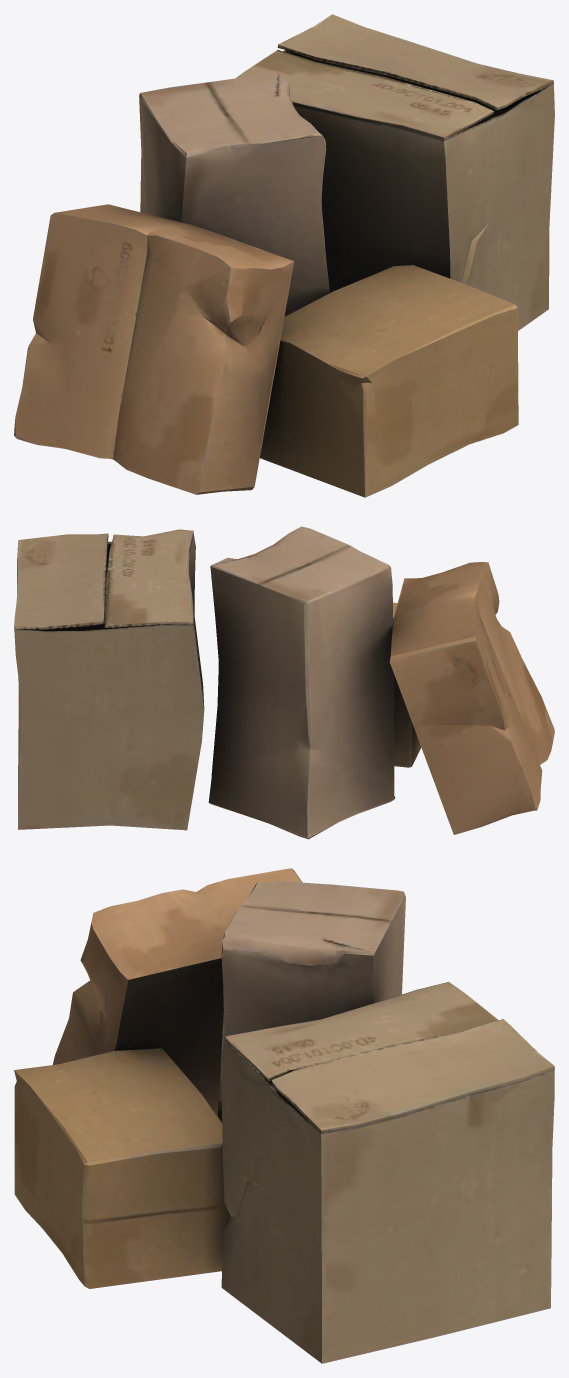
3 views of the same model, one above another, from view 1: azimuth 30°, elevation 25°; view 2: azimuth 150°, elevation 25°; view 3: azimuth 270°, elevation 25° (orthographic). The views are drawn at different scales.
Parts seen in each view (by area): view 1: body0_model0_lod0_mesh0; view 2: body0_model0_lod0_mesh0; view 3: body0_model0_lod0_mesh0.
Boxes of the visible parts, left/top/right/bottom form: body0_model0_lod0_mesh0: left=14, top=14, right=554, bottom=497; body0_model0_lod0_mesh0: left=14, top=526, right=554, bottom=839; body0_model0_lod0_mesh0: left=14, top=868, right=554, bottom=1363.
Bounding box in the file's own units: 122 × 57.44 × 97.28.
1 material, 1 textured.
